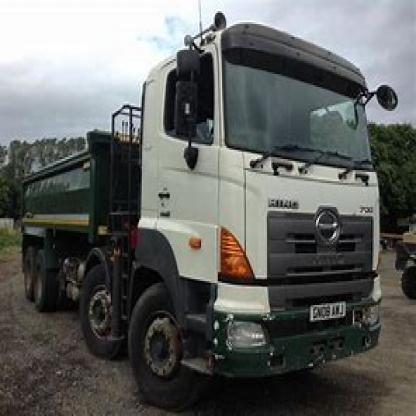dump_truck: (3, 19, 385, 410)
